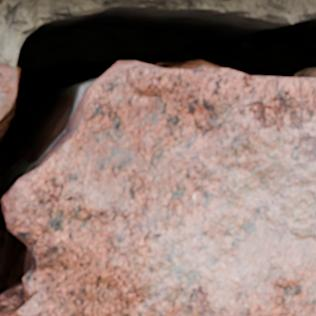broken_brick: (4, 62, 315, 315), (0, 62, 16, 115)
crack: (0, 2, 315, 315)
